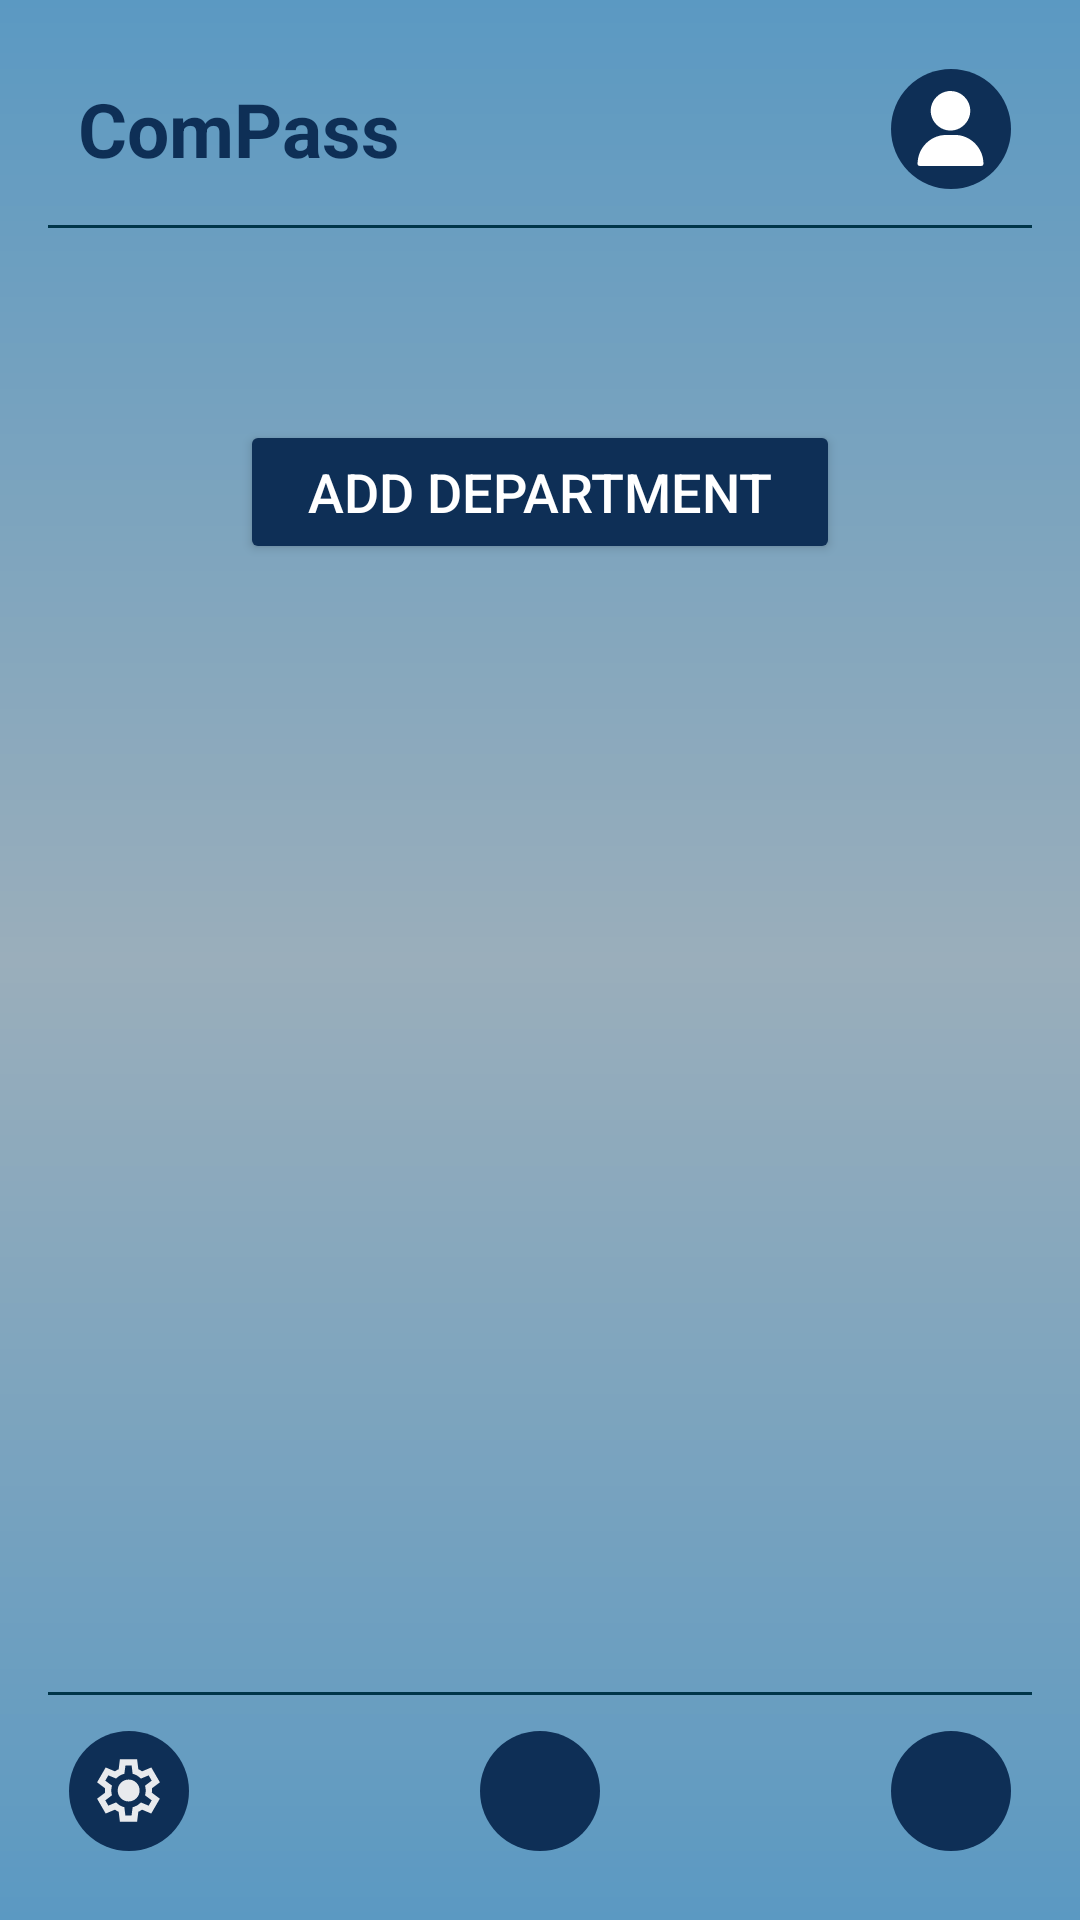

Named icons in this screenshot (1080px x 1920px) and their bounding boxes, bbox(x1, y1, x2, y2):
settings: bbox(97, 1759, 160, 1822)
user: bbox(917, 91, 984, 166)
